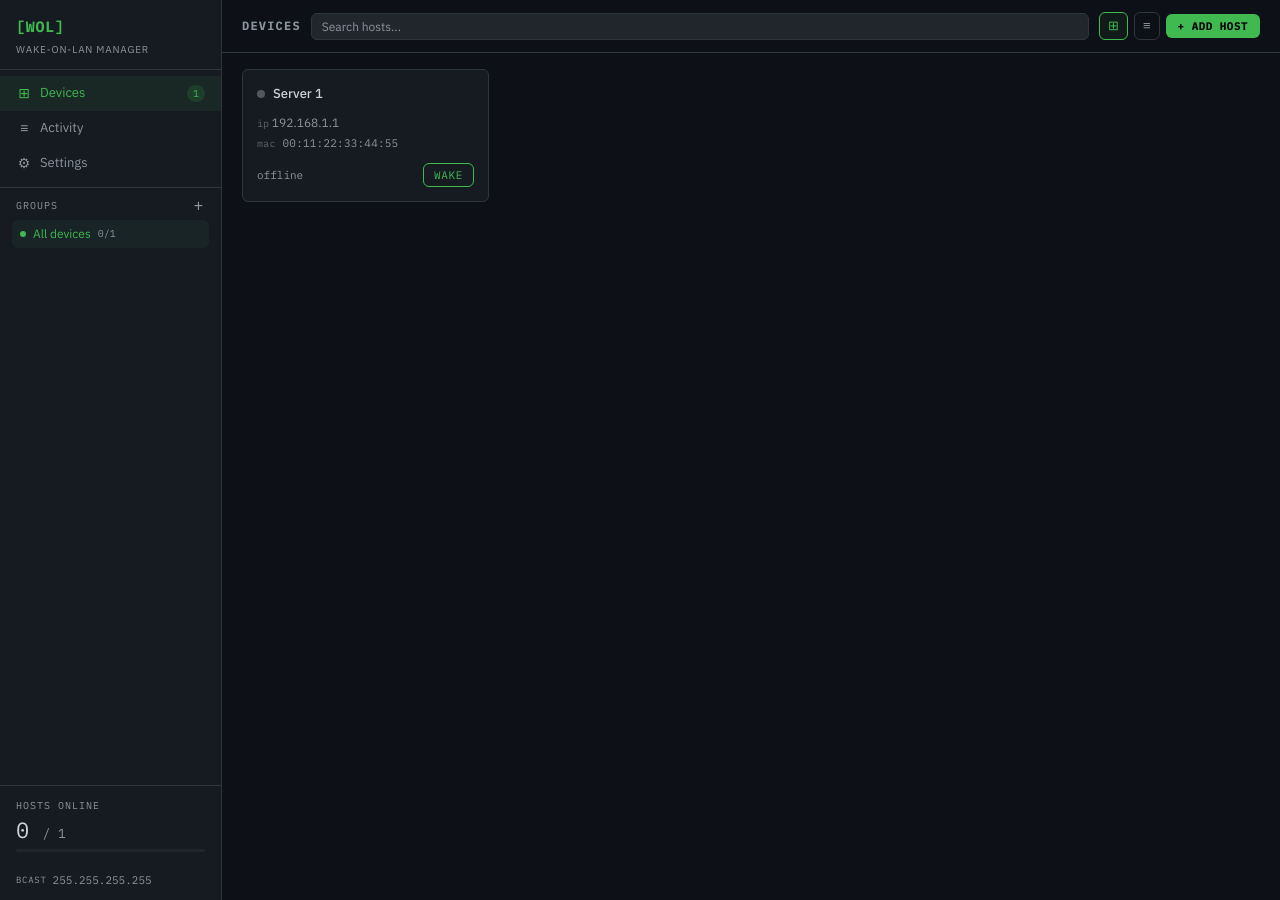
Test case: App › ping › shows online status and ping ms after PING button clicked
Click the text "Server 1".
click(298, 94)  # box [273, 85, 323, 102]
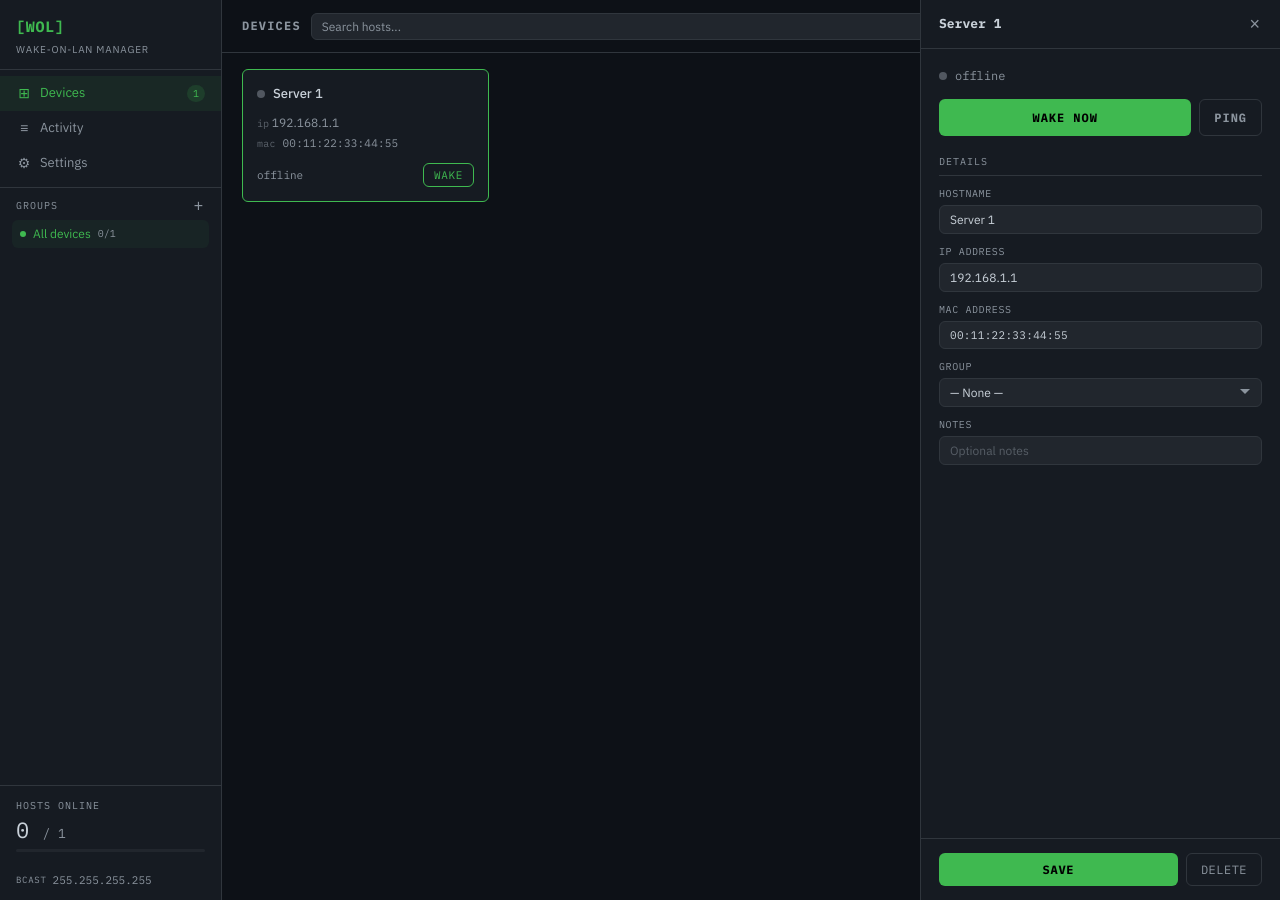
Click the button "PING".
click(1231, 117)  # box [1199, 98, 1262, 136]
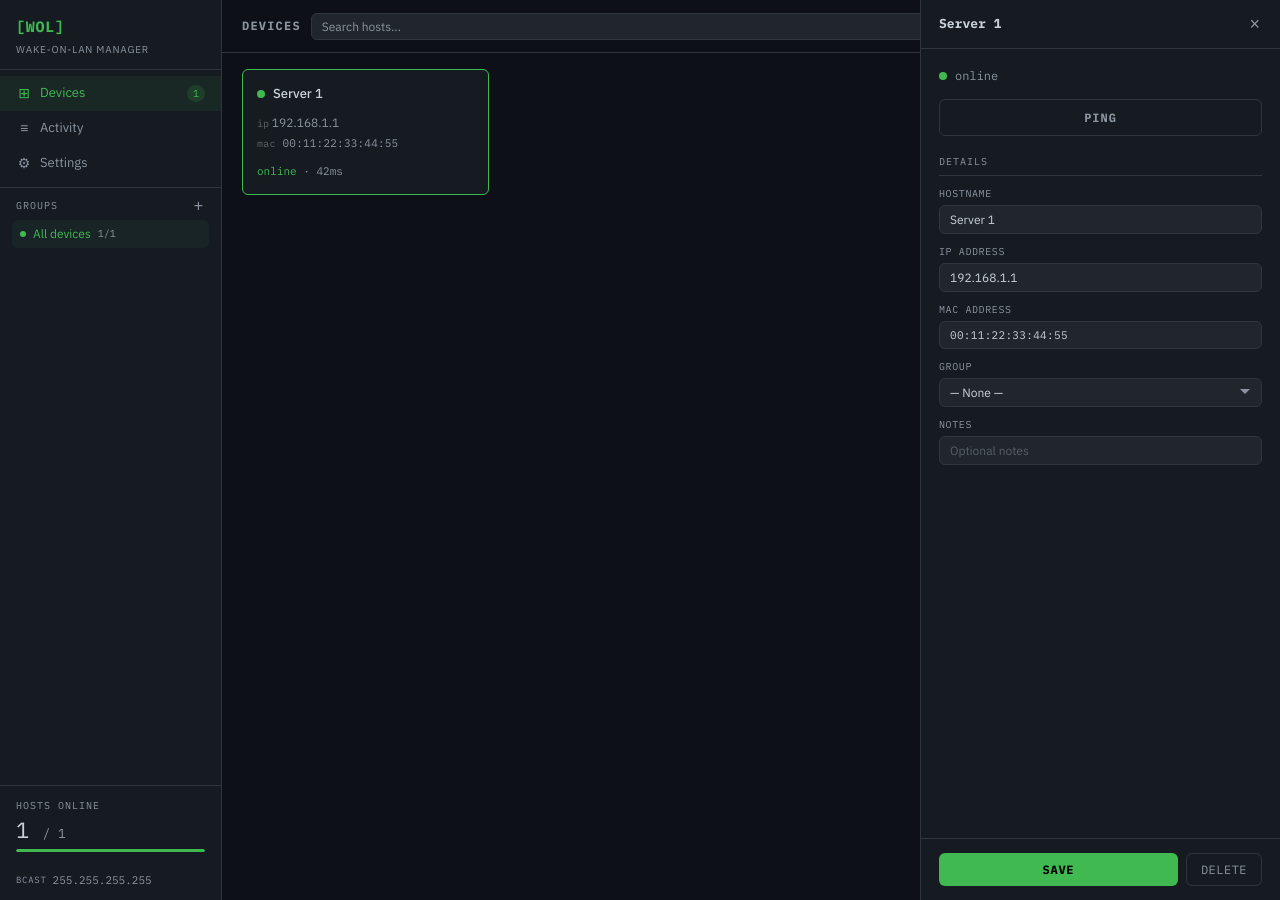
Check: the text "· 42ms" is shown, box [297, 164, 343, 178]
